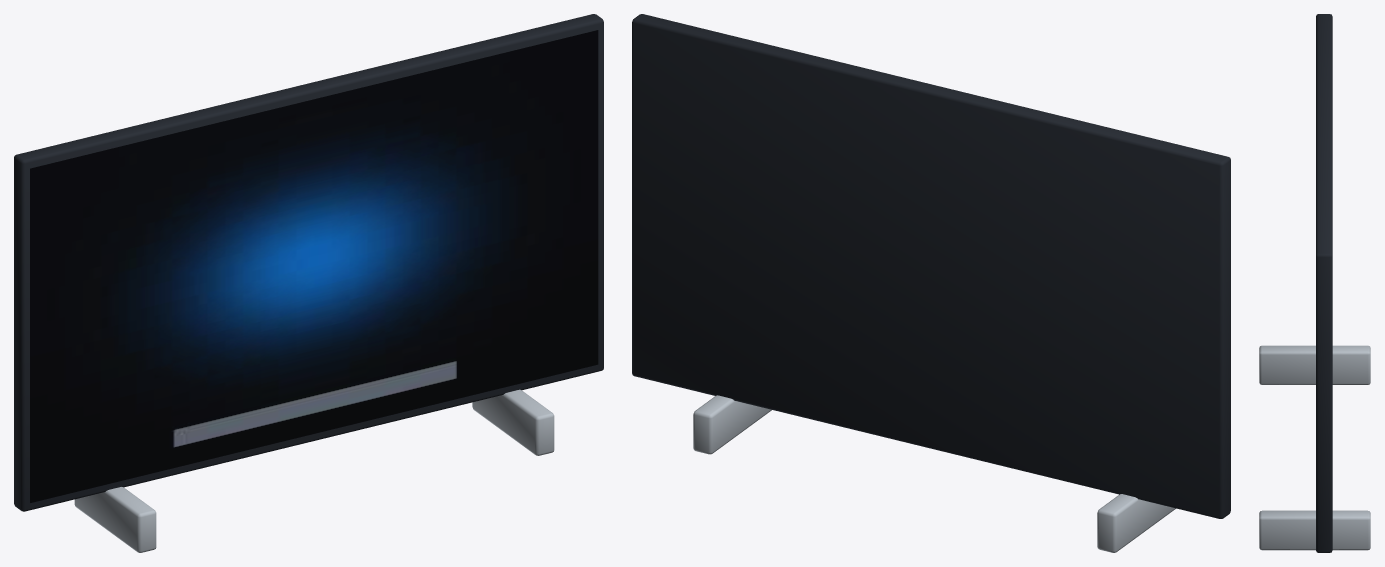
Rendered from tv_smart_55-b882d921324c.glb.
The picture shows the model from 3 angles, left to right: view 1: azimuth 30°, elevation 25°; view 2: azimuth 150°, elevation 25°; view 3: azimuth 270°, elevation 25°; orthographic projection. The views are drawn at different scales.
Visible parts, largest first — view 1: Screen_Surface, Panel_Chassis, Mesh_Brushed_Steel; view 2: Panel_Chassis, Mesh_Brushed_Steel; view 3: Panel_Chassis, Mesh_Brushed_Steel.
Part boxes in pixels (bbox=[...]): Screen_Surface: bbox=[30, 30, 598, 502]; Panel_Chassis: bbox=[14, 14, 603, 511]; Mesh_Brushed_Steel: bbox=[74, 389, 554, 552]; Panel_Chassis: bbox=[632, 14, 1230, 518]; Mesh_Brushed_Steel: bbox=[693, 395, 1175, 552]; Panel_Chassis: bbox=[1316, 14, 1332, 552]; Mesh_Brushed_Steel: bbox=[1259, 345, 1370, 550].
Bounding box in the file's own units: 1.23 × 0.785 × 0.24.
3 materials, 1 textured.
